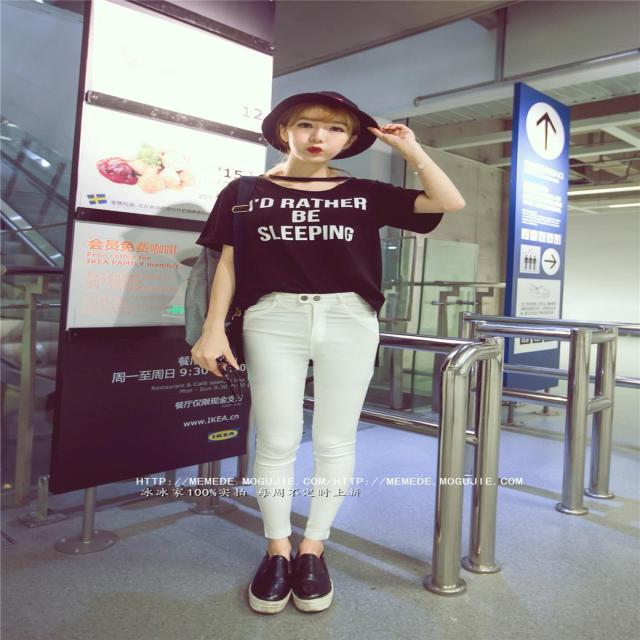short sleeve top: (197, 177, 426, 314)
trousers: (241, 291, 379, 539)
